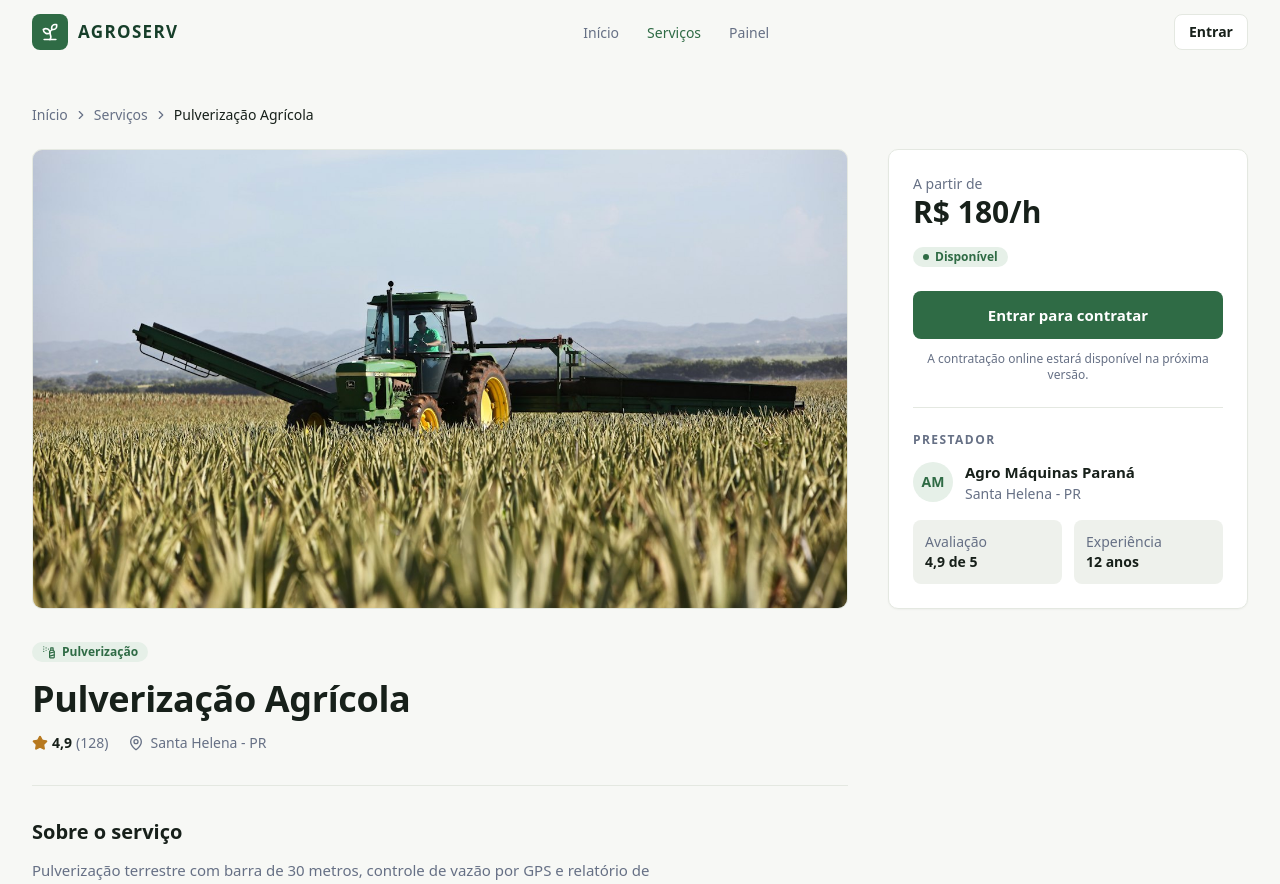
Test: LoginPage › returns to the service after logging in from its detail page
Click the link "Entrar para contratar": (1068, 315) top-left (913, 291), bottom-right (1223, 339)
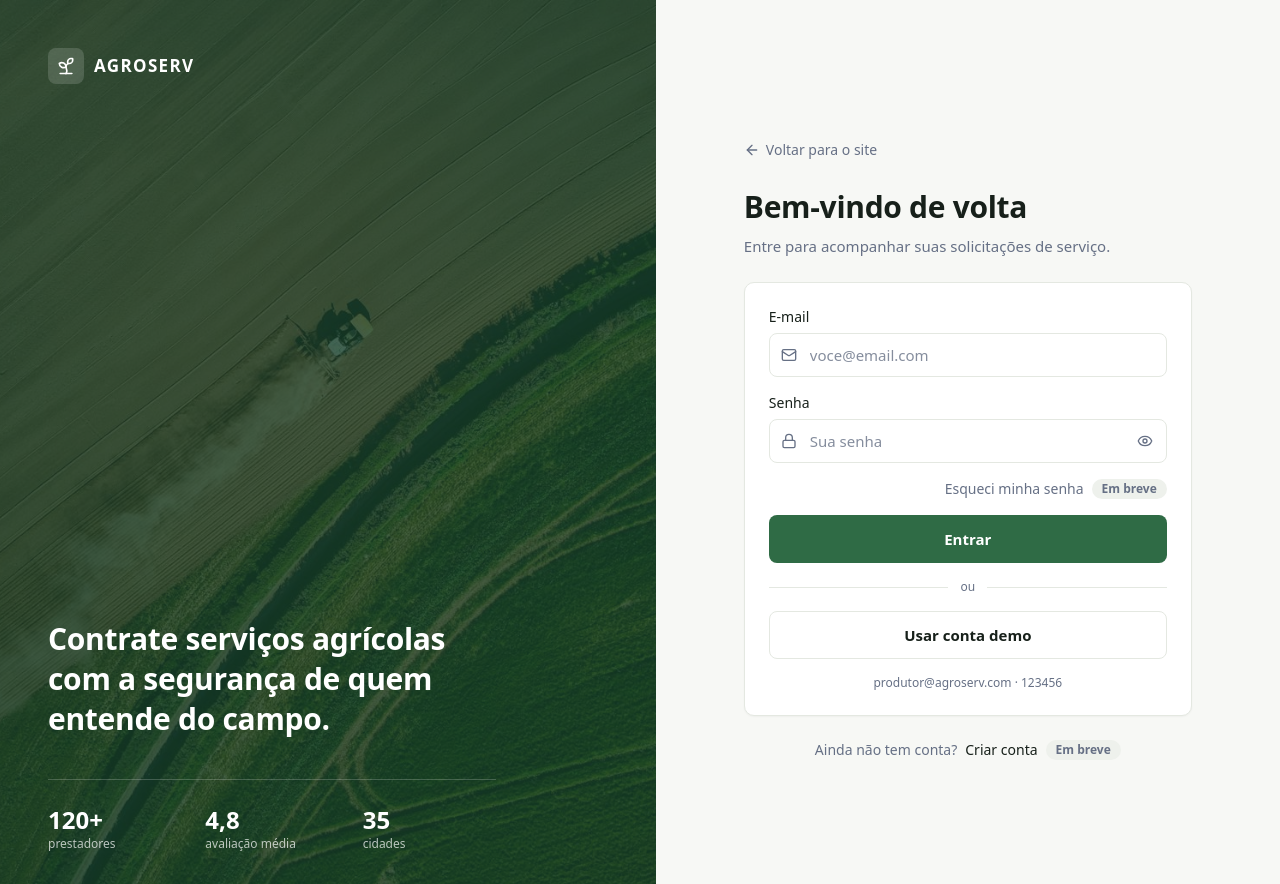
Expected: the heading "Bem-vindo de volta" is shown, top-left (744, 186), bottom-right (1027, 227)
In the field labelled "E-mail": (968, 355) top-left (769, 333), bottom-right (1167, 377), type "produtor@agroserv.com"
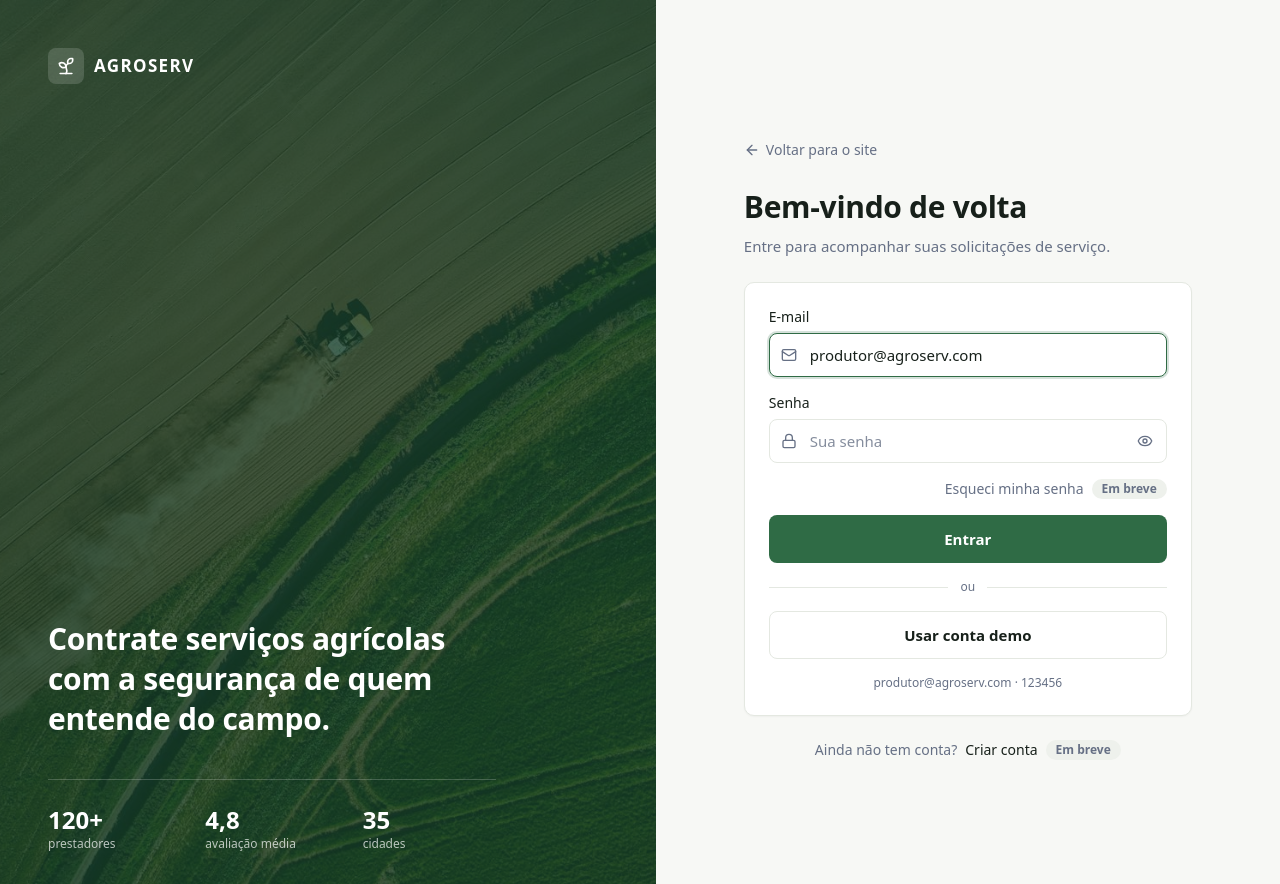
In the password field labelled "Senha": (968, 441) top-left (769, 419), bottom-right (1167, 463), type "123456"
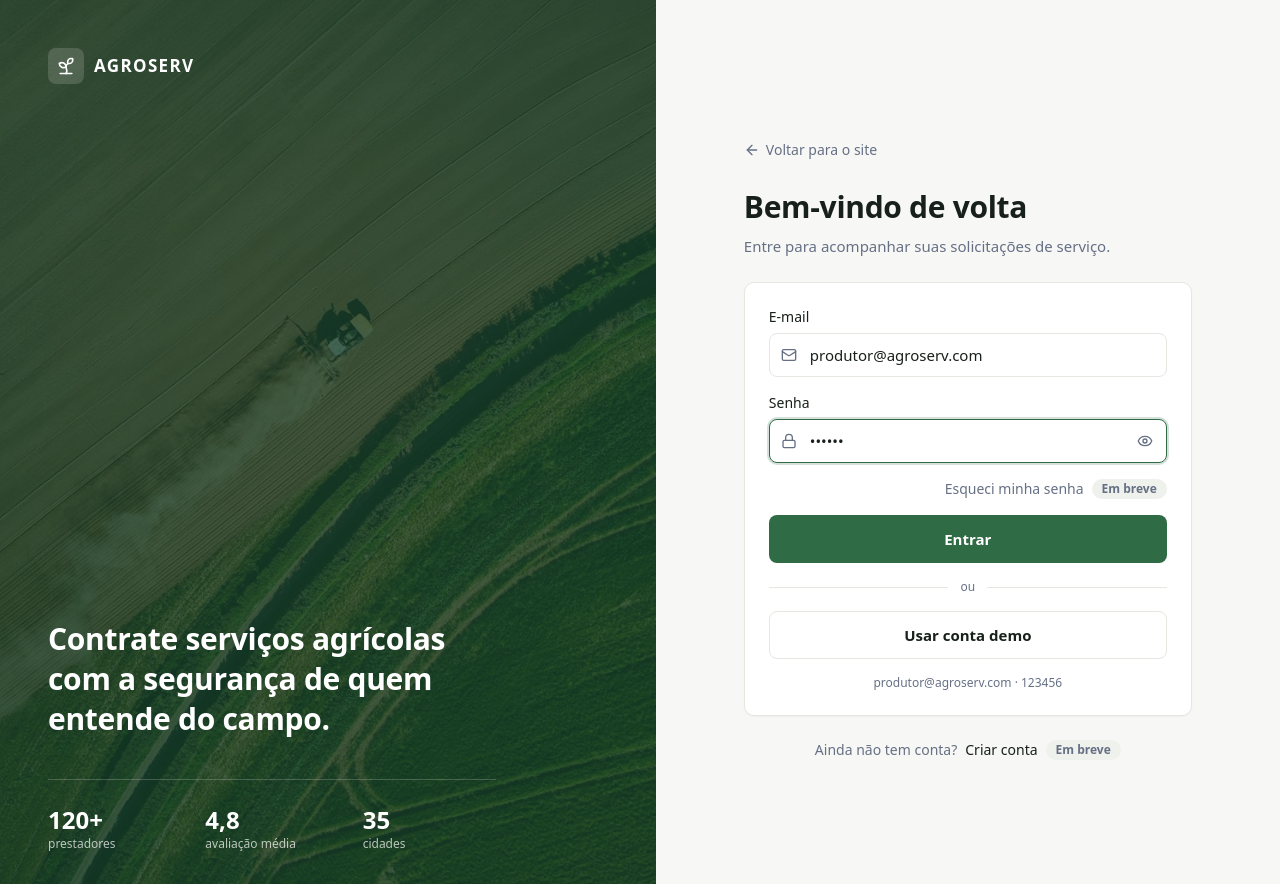
Click the button "Entrar": (968, 539) top-left (769, 515), bottom-right (1167, 563)
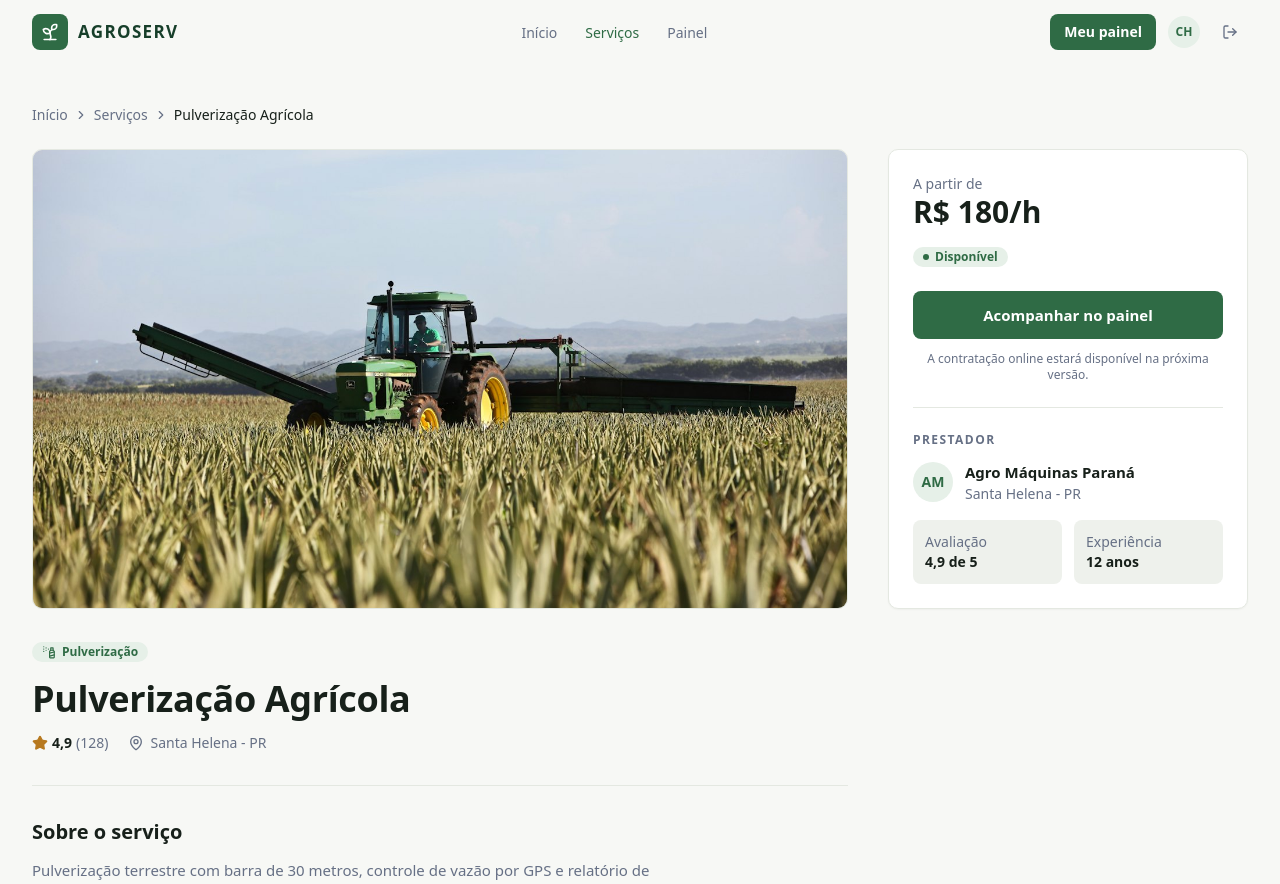
Expected: the heading "Pulverização Agrícola" is shown, top-left (32, 674), bottom-right (410, 723)
Expected: the link "Acompanhar no painel" is shown, top-left (913, 291), bottom-right (1223, 339)
